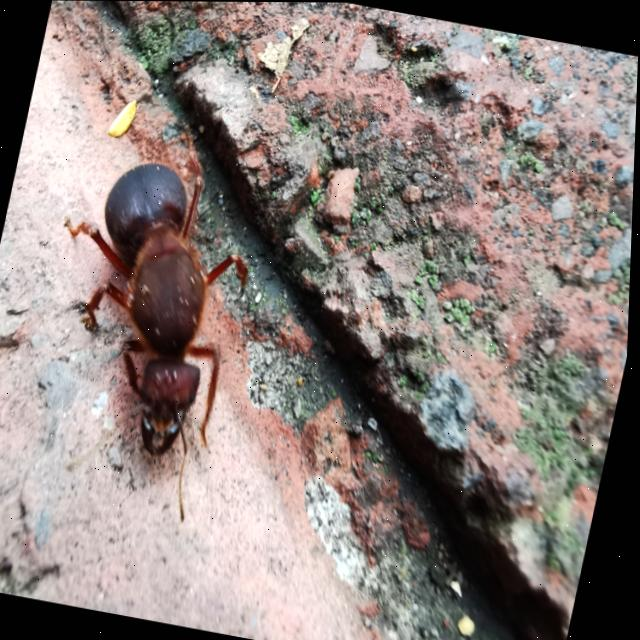Alive-Female-Dealate: (10, 105, 279, 523)
